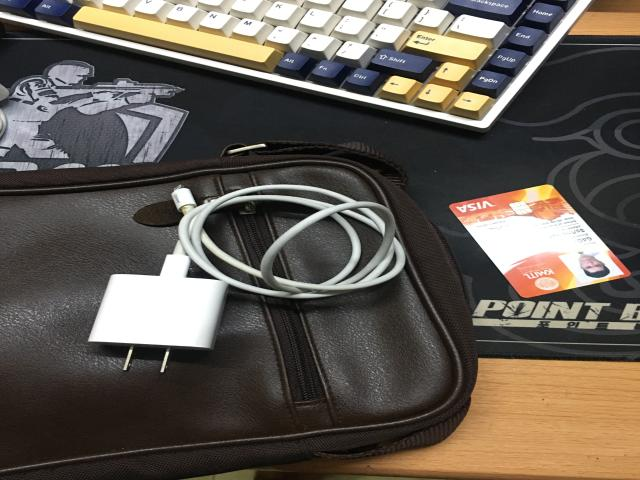wire: (88, 185, 405, 370)
